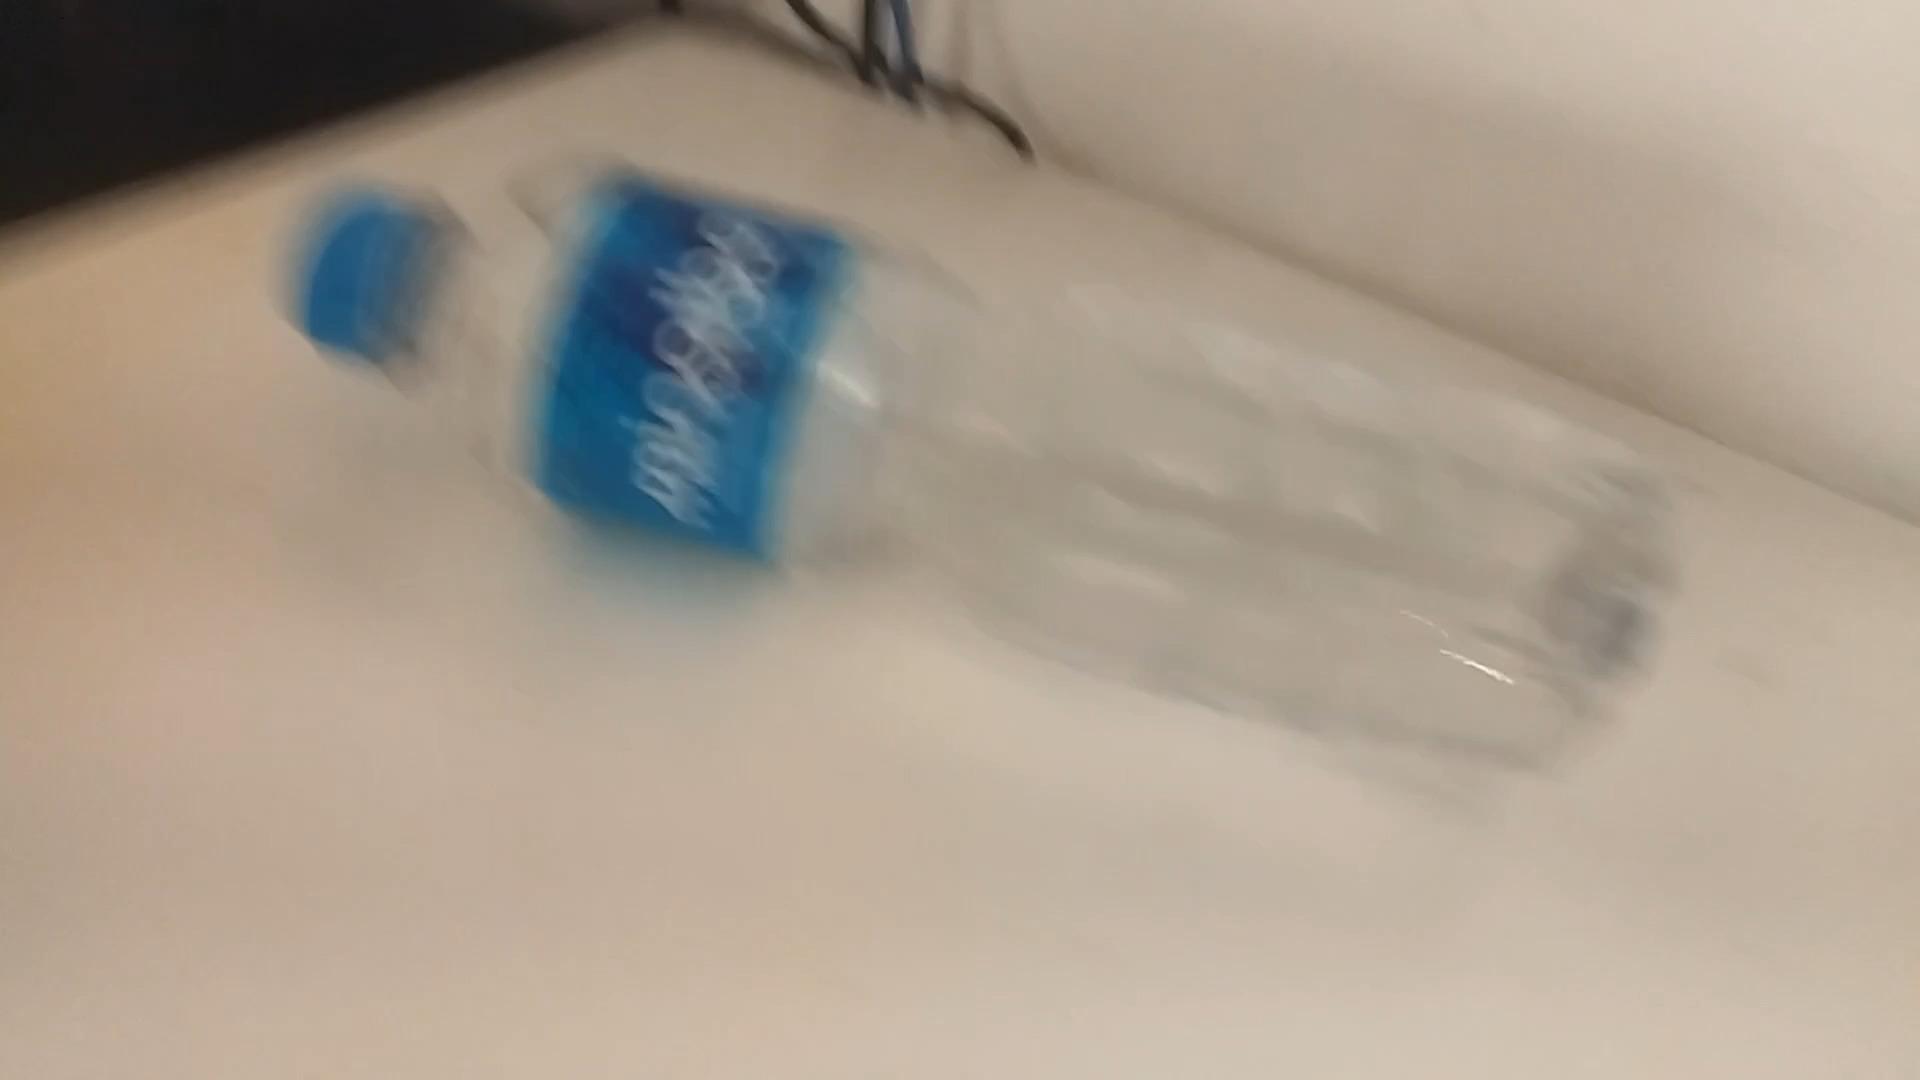agua: (295, 150, 1659, 795)
